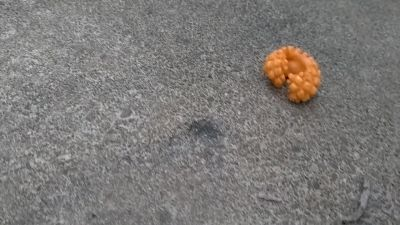eggs: (262, 45, 323, 105)
